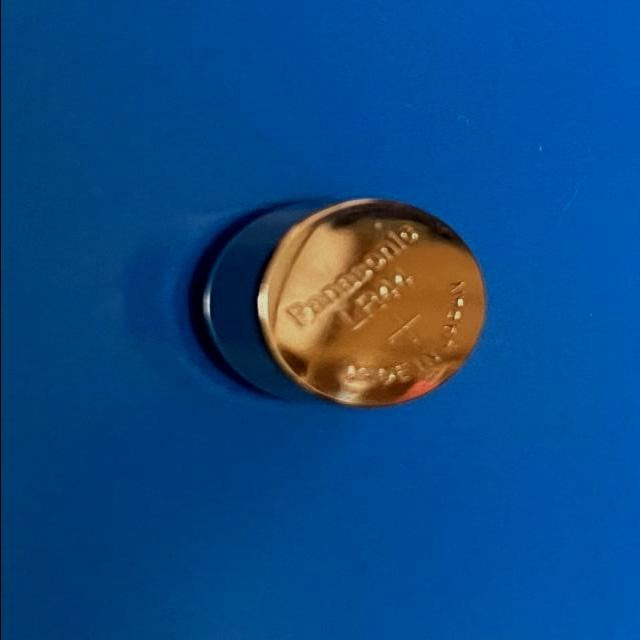COIN: (196, 195, 489, 410)
